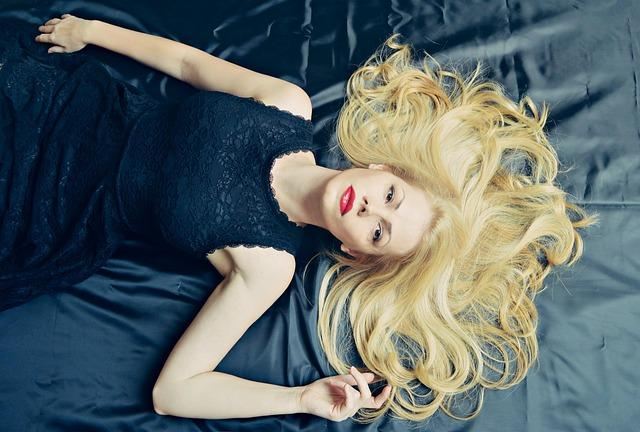Non_Gorille: (42, 0, 538, 432)
